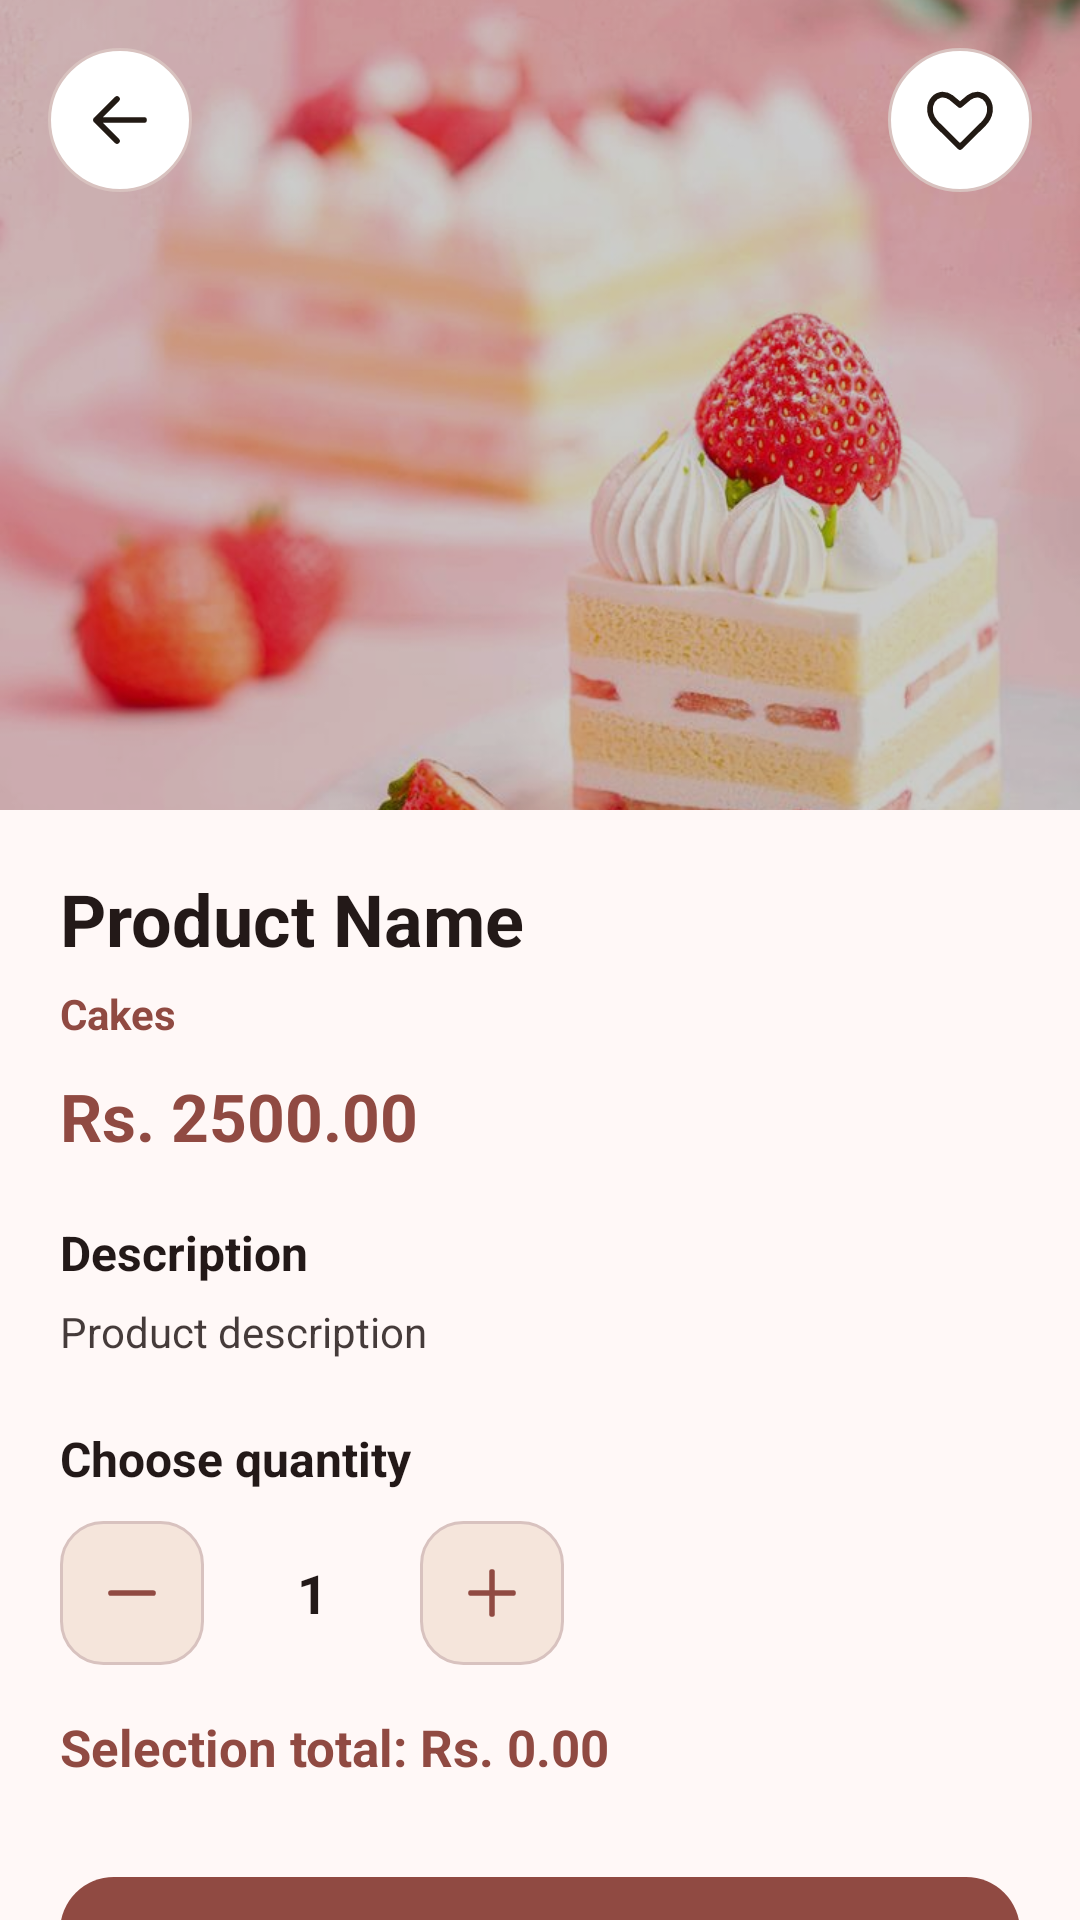

Screen size 1080 x 1920. Icon name, then its box in pixels as box=[x1, y1, x2, y2]:
Back: box=[51, 51, 189, 189]
Decrease quantity: box=[60, 1521, 204, 1665]
Increase quantity: box=[420, 1521, 564, 1665]
Wishlist: box=[888, 48, 1032, 192]
